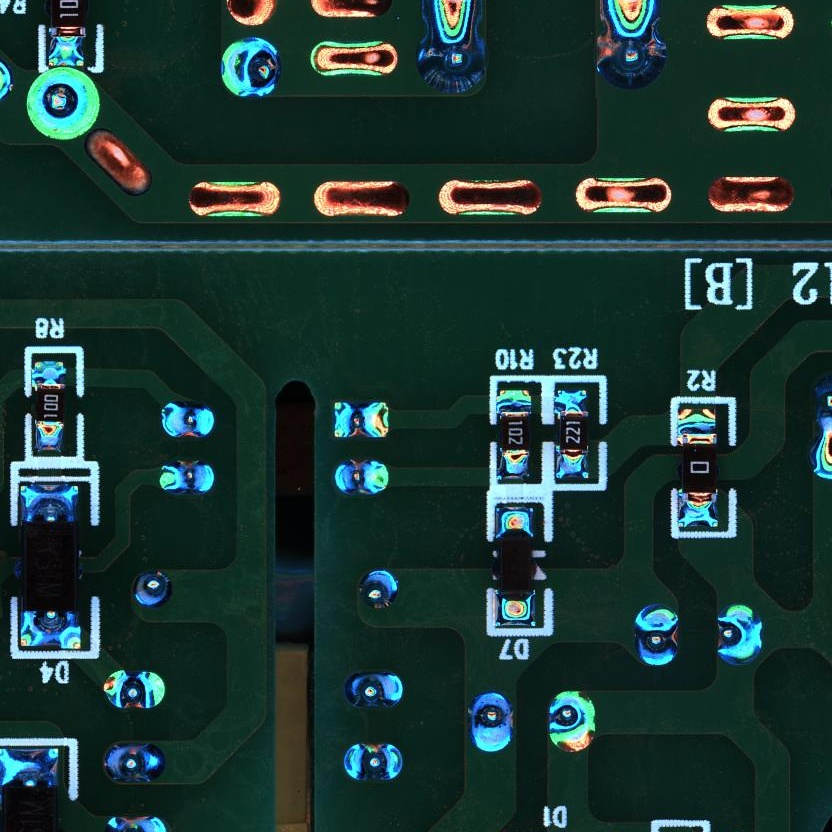spot: (24, 65, 102, 141), (414, 26, 489, 96), (592, 22, 667, 89), (219, 36, 283, 99), (714, 601, 766, 669), (546, 688, 598, 755), (631, 602, 682, 669), (467, 691, 516, 755), (100, 670, 167, 712), (102, 742, 167, 785), (340, 742, 405, 784), (345, 670, 406, 711), (159, 398, 216, 440), (332, 398, 389, 440), (333, 458, 390, 498), (158, 461, 216, 496), (130, 569, 175, 612), (358, 568, 400, 612)
